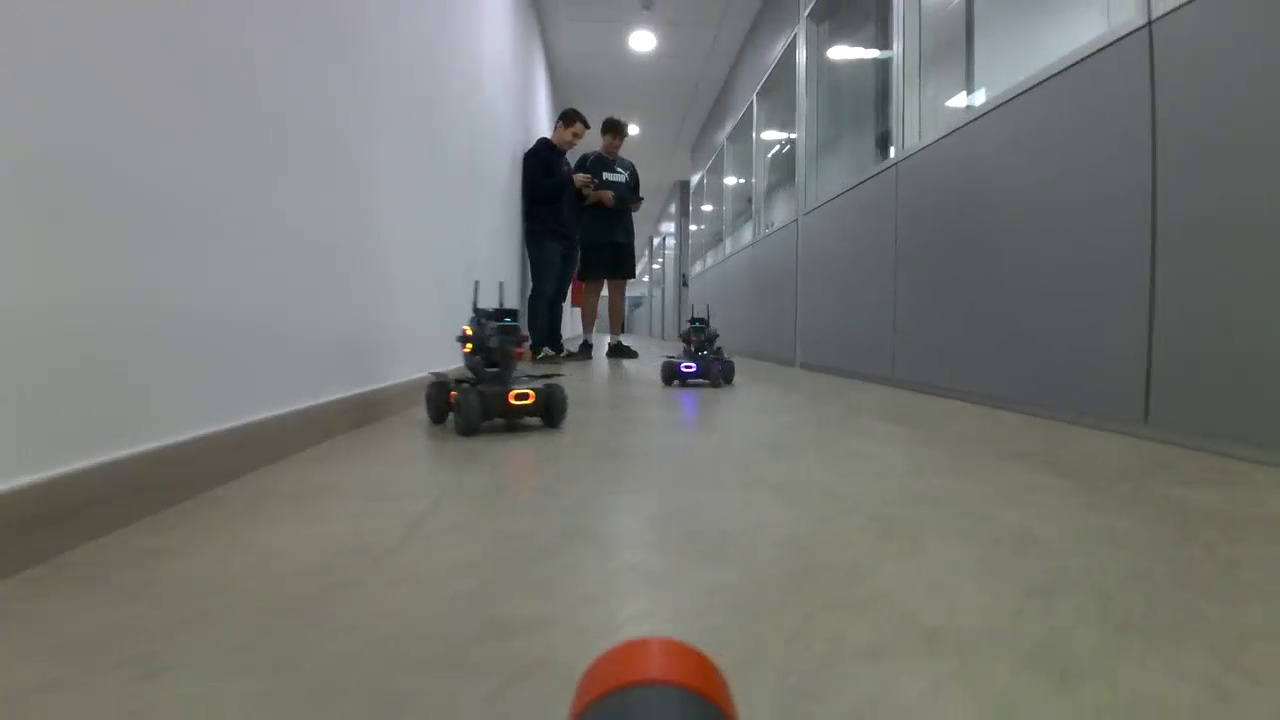robot: (424, 306, 570, 437), (661, 315, 736, 388)
